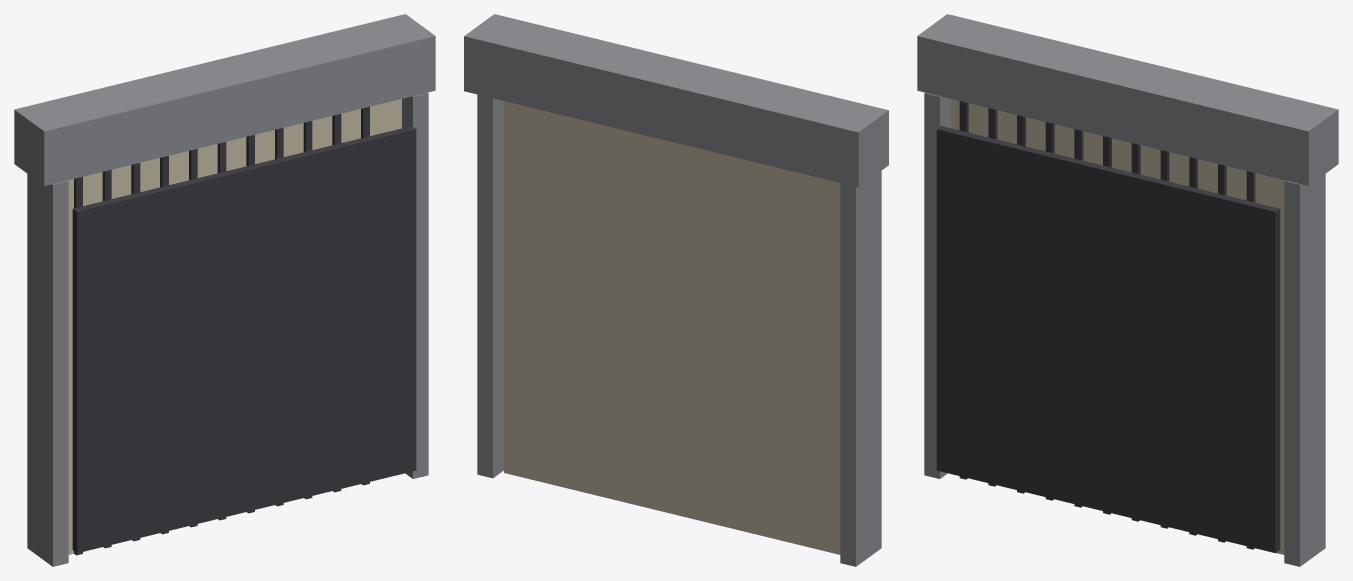
Rendered from prop_shutter_cream.glb.
3 views of the same model, side by side, from view 1: azimuth 30°, elevation 25°; view 2: azimuth 150°, elevation 25°; view 3: azimuth 330°, elevation 25° (orthographic).
Parts seen in each view (by area): view 1: shutter_cream; view 2: shutter_cream; view 3: shutter_cream.
Boxes of the visible parts, <box> form: shutter_cream: <box>14,14,435,566</box>; shutter_cream: <box>464,14,888,566</box>; shutter_cream: <box>917,14,1338,566</box>.
Size of the model in its own units: 3 by 3.2 by 0.49.
